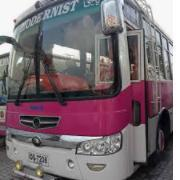bus: (3, 6, 174, 180)
